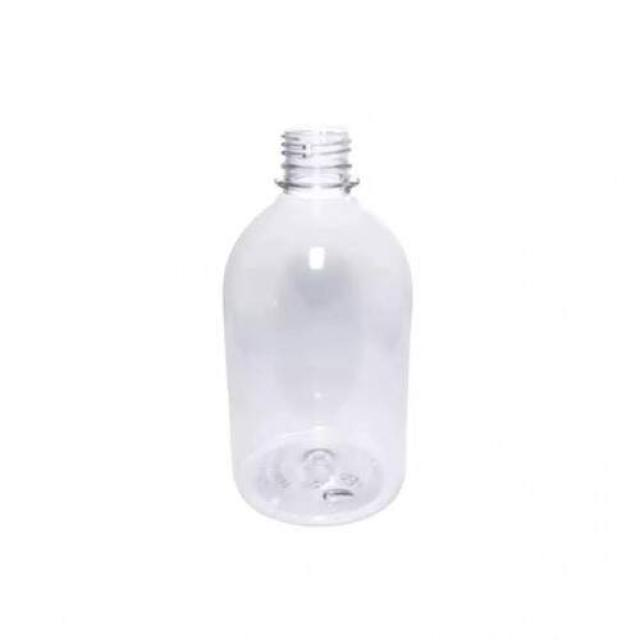bottom: (211, 427, 426, 530)
no_cap: (252, 119, 364, 206)
